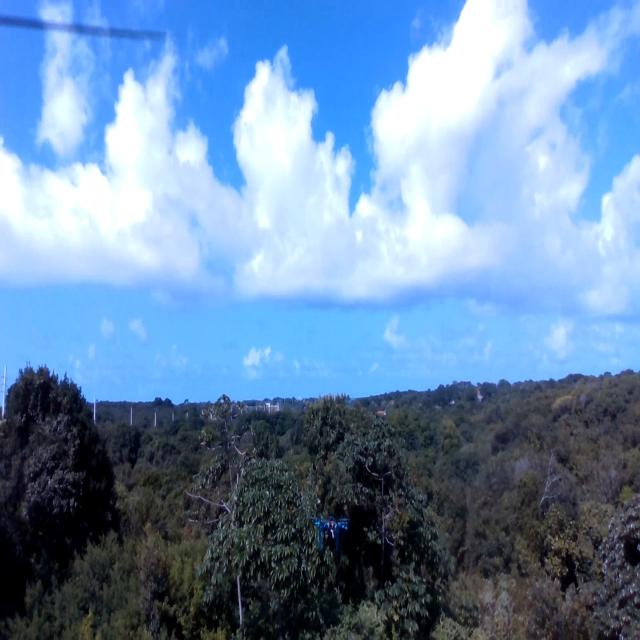-uav-: (303, 502, 356, 560)
